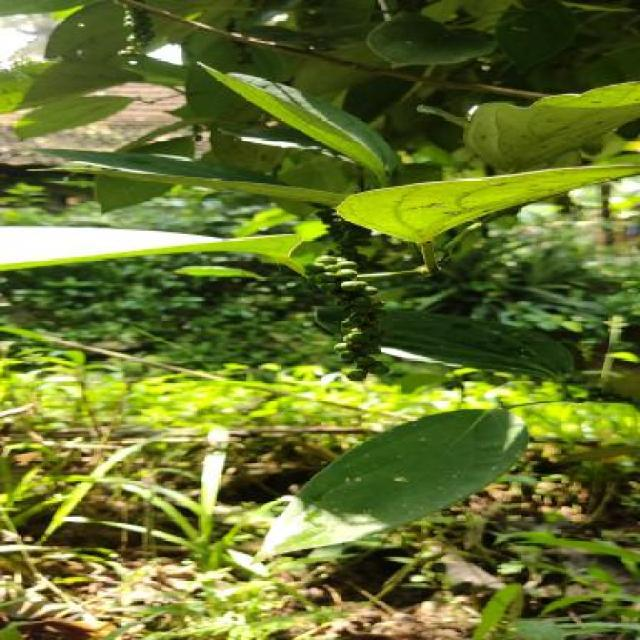UNRIPE: (310, 203, 393, 379), (118, 3, 154, 52)
